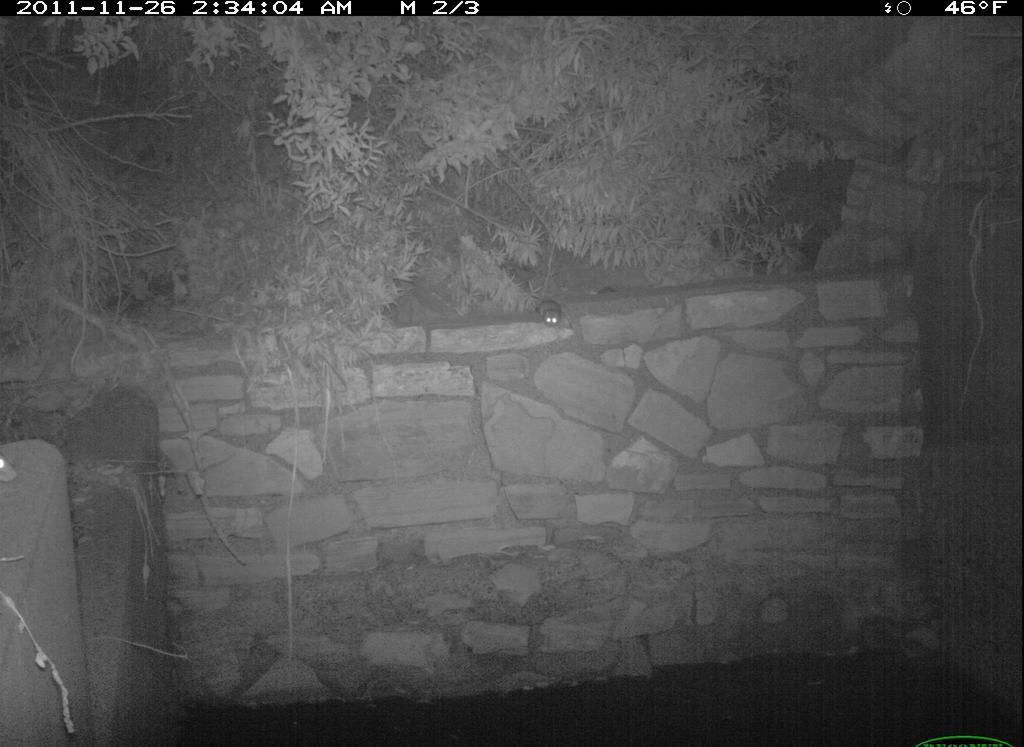rodent: (534, 297, 567, 333)
